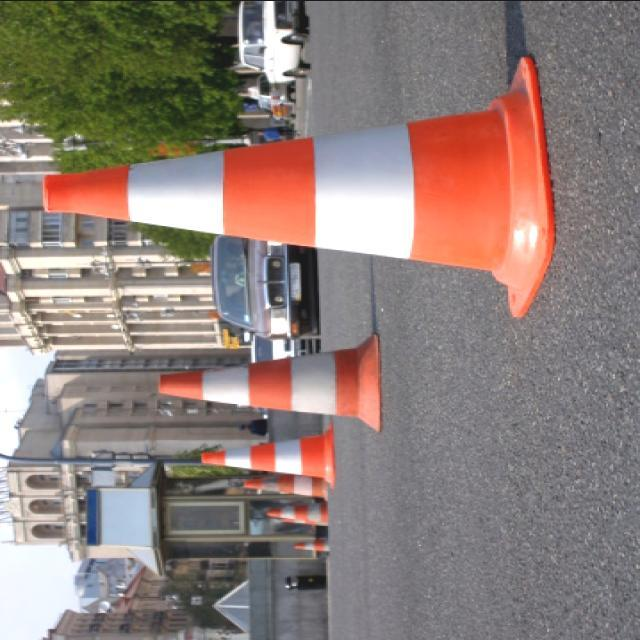traffic cone: (39, 55, 556, 320)
traffic light: (40, 55, 556, 319)
